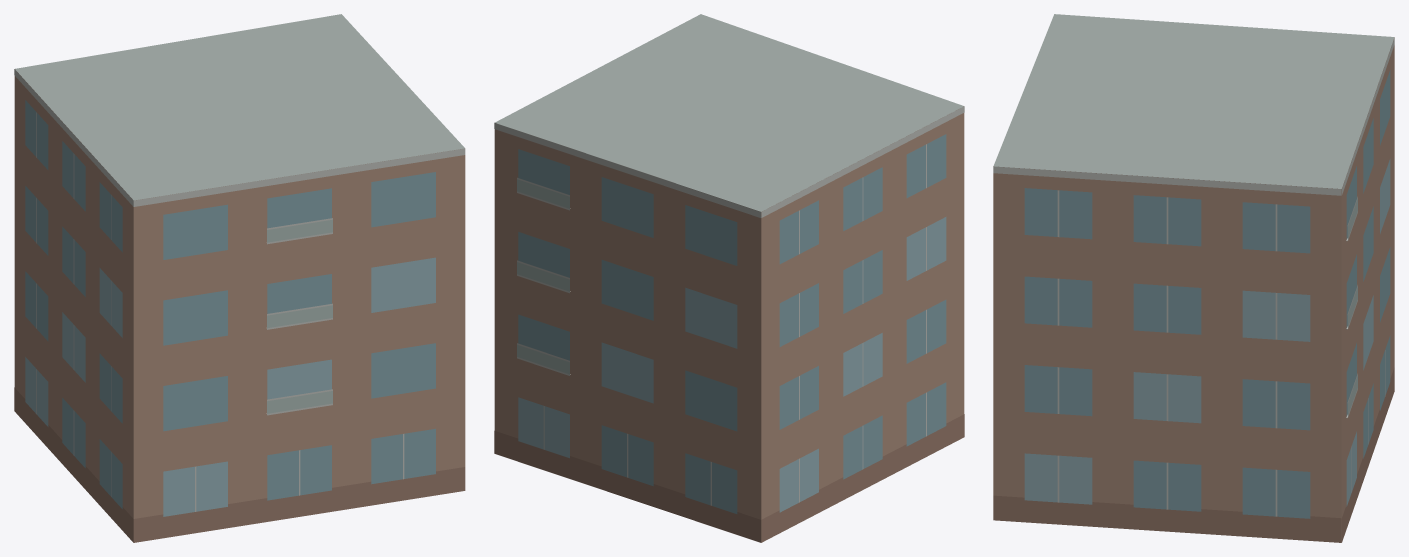
Rendered from survey-upis-32706237.glb.
3 renders of one model, left to right at view 1: azimuth 30°, elevation 25°; view 2: azimuth 150°, elevation 25°; view 3: azimuth 270°, elevation 25°, orthographic. The views are drawn at different scales.
Visible parts, largest first — view 1: survey-upis-32706237.tmp; view 2: survey-upis-32706237.tmp; view 3: survey-upis-32706237.tmp.
Part boxes in pixels (x1,y1,x2,y2): survey-upis-32706237.tmp: [14, 14, 465, 542]; survey-upis-32706237.tmp: [494, 14, 964, 542]; survey-upis-32706237.tmp: [993, 14, 1394, 542].
Size of the model in its own units: 13.48 by 12.7 by 13.06.
